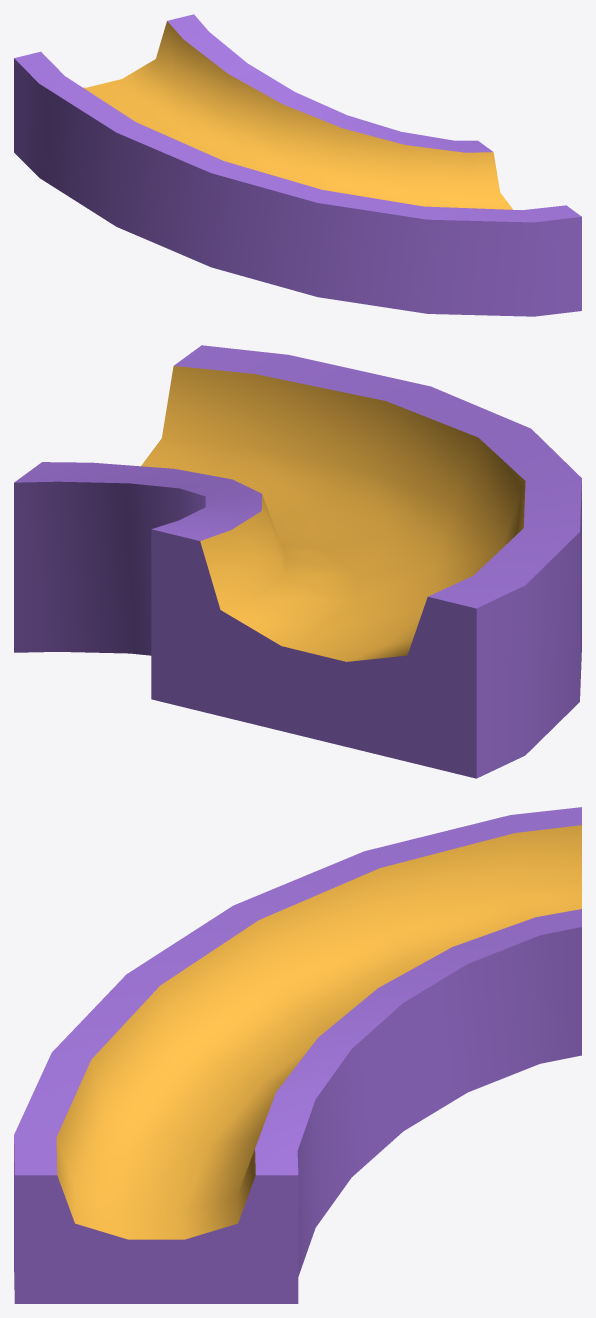
File: helix-quarter-right.glb
3 views of the same model, one above another, from view 1: azimuth 30°, elevation 25°; view 2: azimuth 150°, elevation 25°; view 3: azimuth 270°, elevation 25° (orthographic). The views are drawn at different scales.
Visible parts, largest first — view 1: helix-quarter-right; view 2: helix-quarter-right; view 3: helix-quarter-right.
Part boxes in pixels (<box>): helix-quarter-right: <box>14,14,581,316</box>; helix-quarter-right: <box>14,345,581,778</box>; helix-quarter-right: <box>14,807,581,1303</box>.
Bounding box in the file's own units: 2 × 1 × 2.
Materials: 1 (1 with a texture image).
